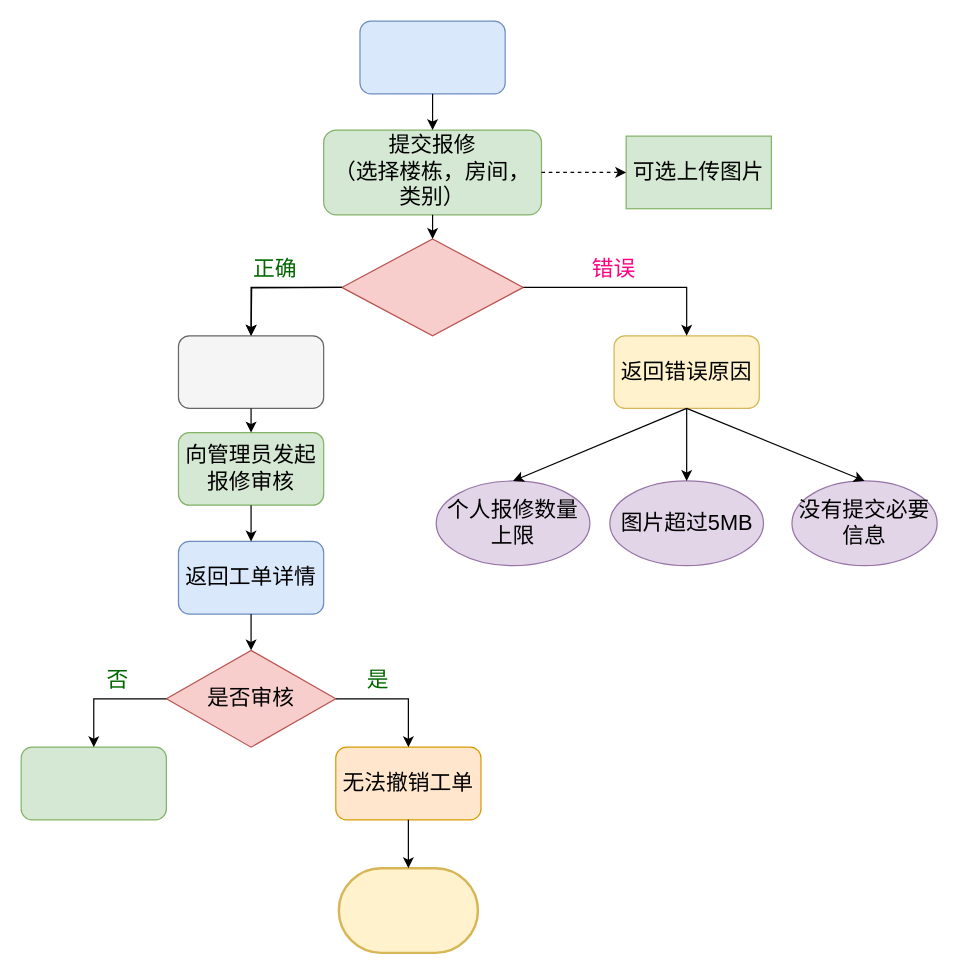
Image size: 958x975. Some labels were removed from this diagram. The centre of each missing label's shape, as x and y in pixels:
"创建工单" goes at point (250, 371).
"可以撤销工单" goes at point (93, 783).
"学生登陆系统" goes at point (432, 57).
"等待报修处理" goes at point (408, 909).
"系统校验" goes at point (432, 287).
